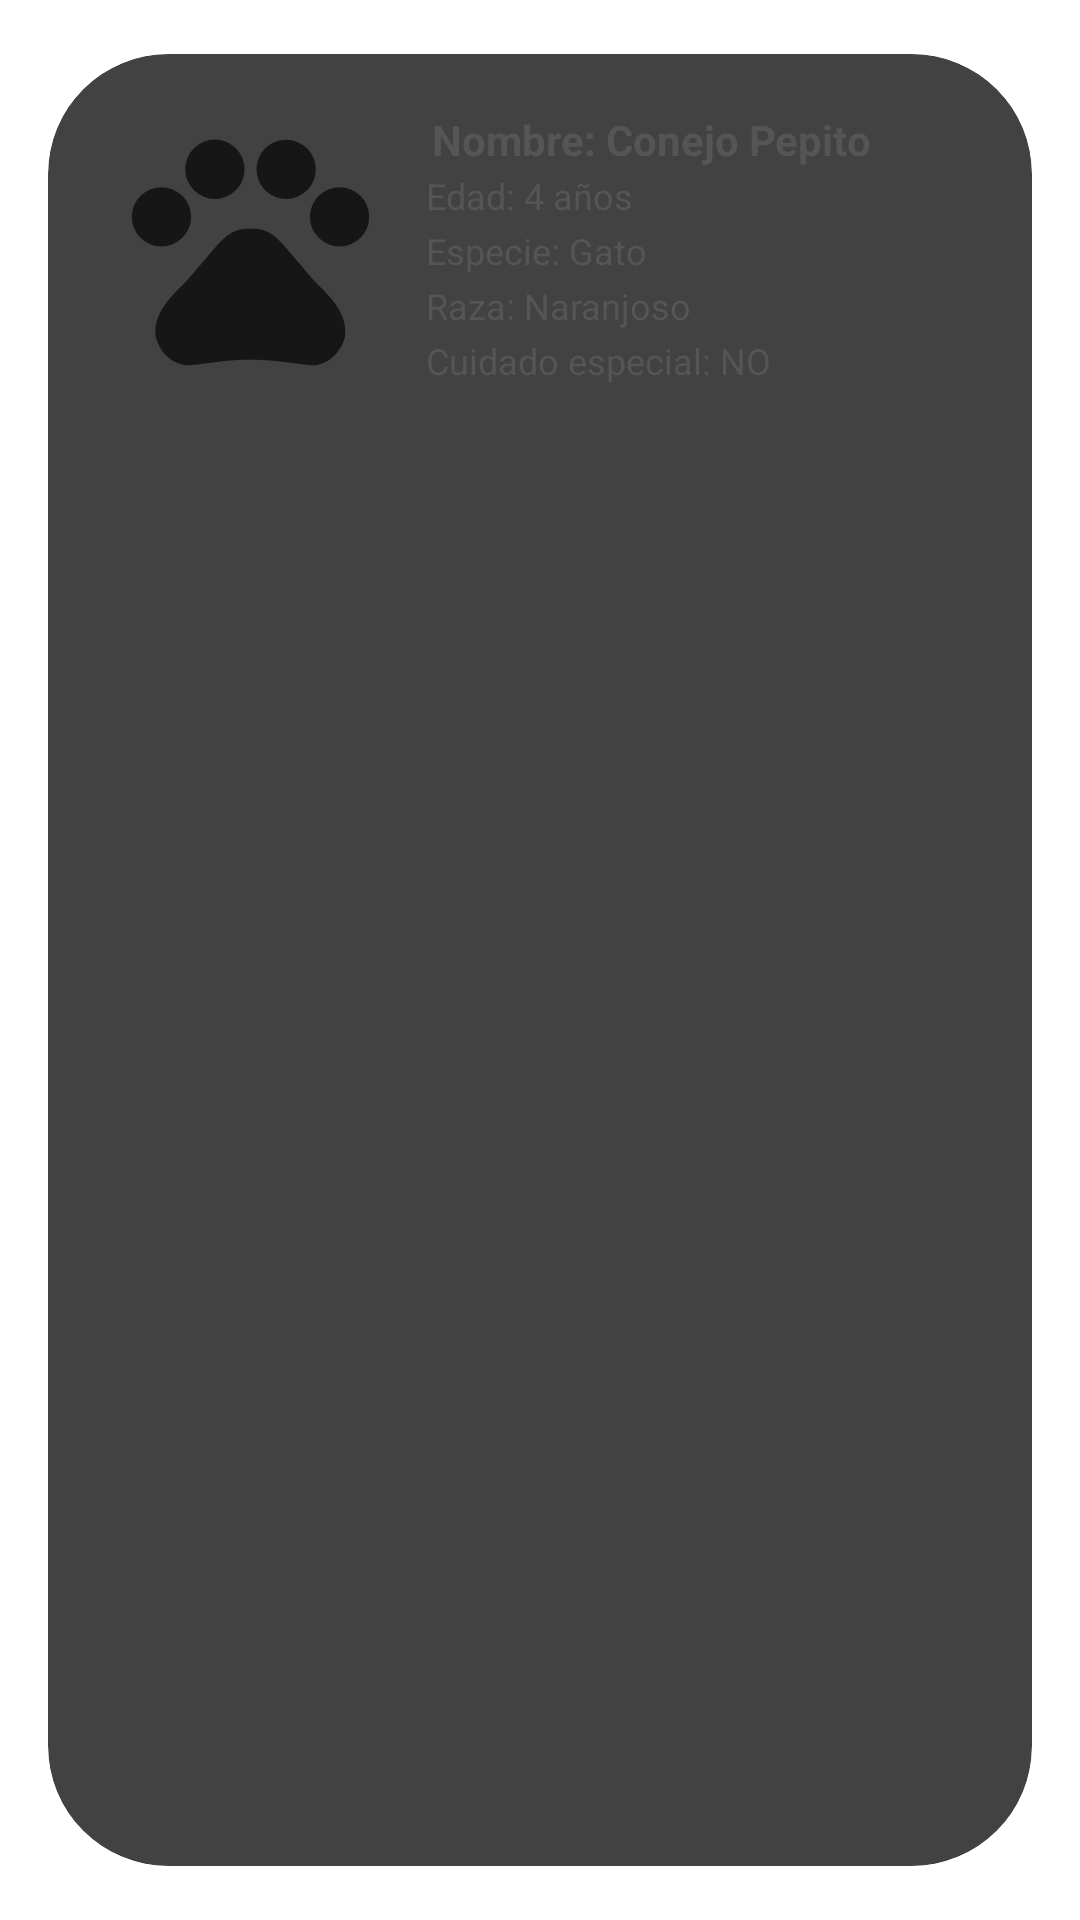

Screen size 1080x1920. Icon name, then its box in pixels as bbox=[x1, y1, x2, y2]:
patita: bbox=[132, 140, 369, 365]
